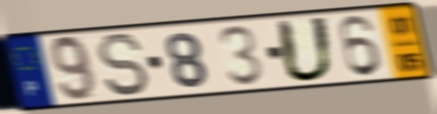3: (218, 24, 265, 88)
6: (337, 13, 384, 79)
8: (164, 31, 210, 89)
9: (50, 33, 99, 105)
S: (94, 31, 152, 99)
U: (273, 15, 338, 85)
